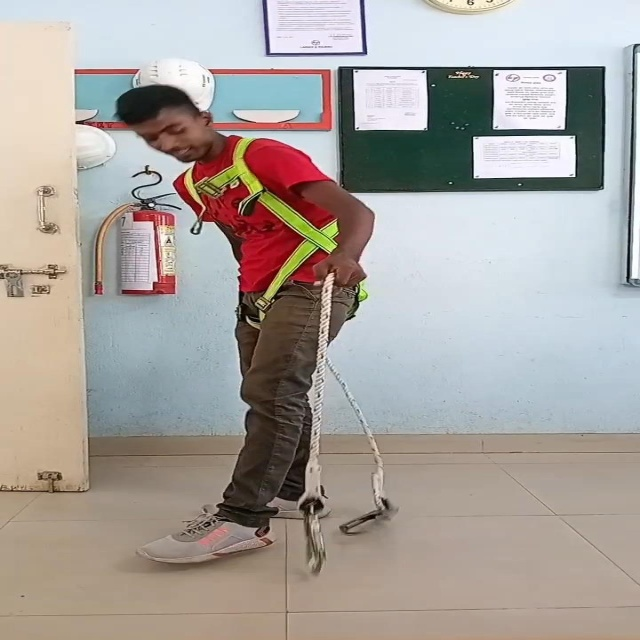Arnes_seguridad: (165, 132, 372, 331)
